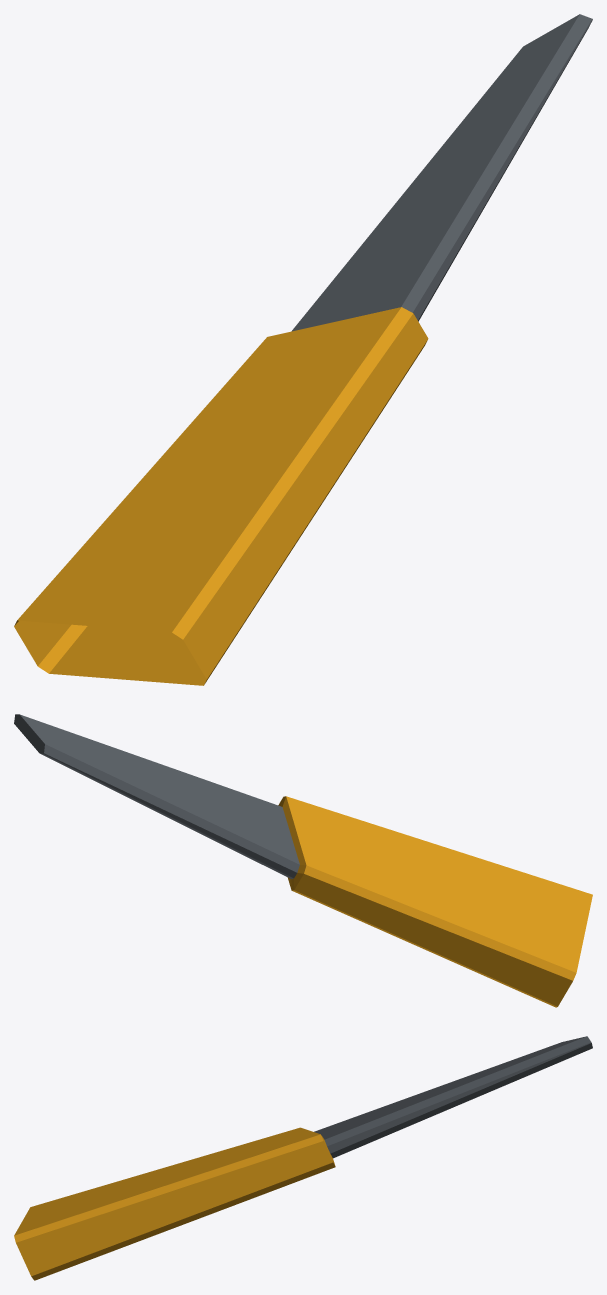
The model's file is Dropship_05_Wing_Left_Yellow.fbx.
3 renders of one model, top to bottom at view 1: azimuth 30°, elevation 25°; view 2: azimuth 150°, elevation 25°; view 3: azimuth 330°, elevation 25°, orthographic. The views are drawn at different scales.
Visible parts, largest first — view 1: Dropship_05_Wing_Left_Yellow; view 2: Dropship_05_Wing_Left_Yellow; view 3: Dropship_05_Wing_Left_Yellow.
Part boxes in pixels (bbox=[...]): Dropship_05_Wing_Left_Yellow: bbox=[14, 14, 592, 685]; Dropship_05_Wing_Left_Yellow: bbox=[14, 714, 592, 1007]; Dropship_05_Wing_Left_Yellow: bbox=[14, 1036, 592, 1280].
Size of the model in its own units: 452 by 234 by 274.
Materials: 1 (1 with a texture image).
